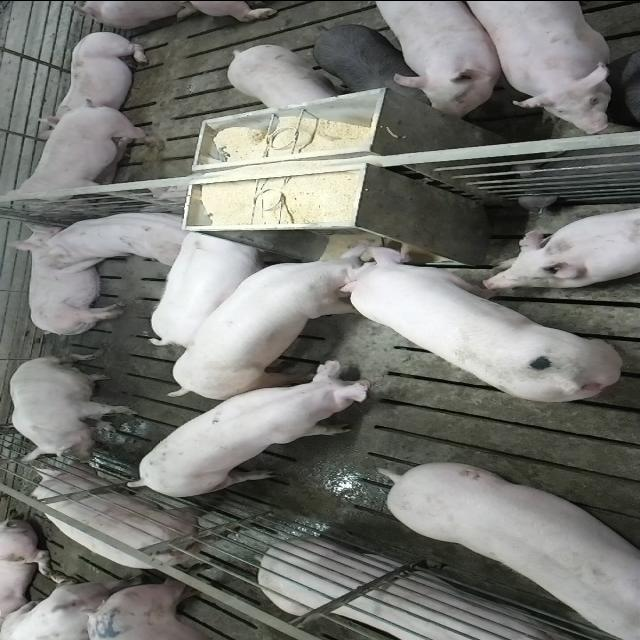Feeding: (335, 240, 625, 404), (158, 240, 384, 406)
Sitting: (8, 353, 138, 464), (11, 206, 193, 265)
Standing: (383, 464, 640, 640), (127, 360, 380, 498), (32, 464, 244, 572), (454, 1, 616, 135), (0, 100, 166, 208), (146, 227, 280, 351), (368, 3, 506, 118), (310, 22, 428, 100), (226, 43, 344, 109), (608, 32, 640, 130)
Sternal_lying: (260, 540, 609, 640), (482, 201, 640, 289), (38, 28, 156, 122)
